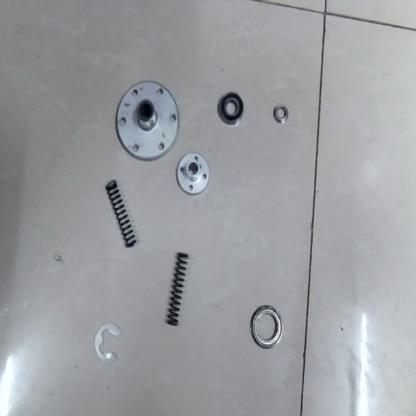FOD: (114, 80, 180, 164), (102, 175, 139, 251), (165, 249, 193, 329), (248, 302, 286, 352), (176, 149, 212, 197), (92, 319, 126, 369), (215, 89, 247, 127), (272, 100, 290, 125)
